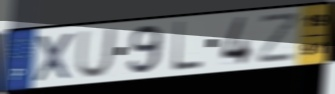4: (218, 15, 253, 67)
9: (127, 23, 166, 76)
L: (170, 19, 204, 74)
U: (74, 26, 119, 79)
X: (32, 30, 76, 84)
Z: (257, 10, 302, 66)
